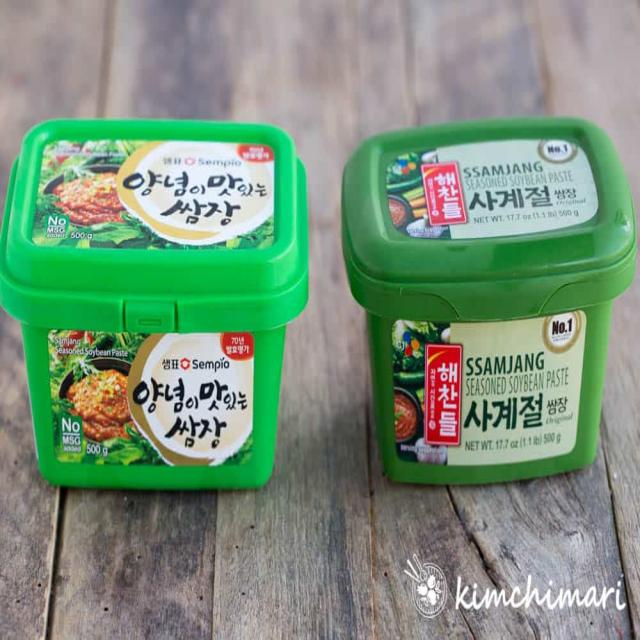plastic: (1, 118, 313, 502), (336, 121, 636, 487)
